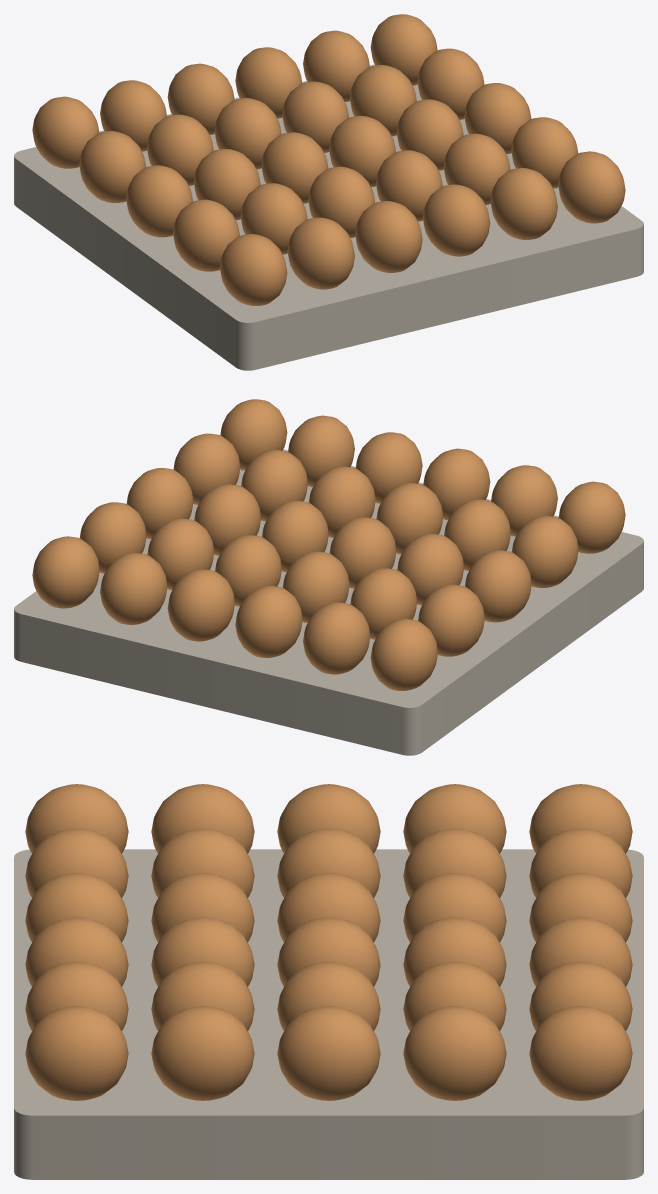
The model's file is item-egg_30.glb.
The picture shows the model from 3 angles, top to bottom: view 1: azimuth 30°, elevation 25°; view 2: azimuth 150°, elevation 25°; view 3: azimuth 270°, elevation 25°; orthographic projection. The views are drawn at different scales.
Visible parts, largest first — view 1: body, egg.015, egg.025, egg.005, egg.010, egg.020, egg, egg.004, egg.001, egg.002, egg.003, egg.012 (+19 smaller); view 2: body, egg.019, egg.029, egg.009, egg.014, egg.024, egg.004, egg, egg.002, egg.003, egg.001, egg.012 (+19 smaller); view 3: body, egg.025, egg.026, egg.027, egg.028, egg.029, egg.015, egg.016, egg.017, egg.018, egg.019, egg.005 (+19 smaller).
Boxes of the visible parts, x1=… form: body: x1=14, y1=64, x2=643, y2=370; egg.015: x1=423, y1=184, x2=490, y2=256; egg.025: x1=558, y1=151, x2=625, y2=223; egg.005: x1=287, y1=217, x2=354, y2=289; egg.010: x1=355, y1=201, x2=422, y2=272; egg.020: x1=490, y1=168, x2=557, y2=239; egg: x1=220, y1=234, x2=287, y2=305; egg.004: x1=32, y1=96, x2=99, y2=168; egg.001: x1=173, y1=199, x2=239, y2=271; egg.002: x1=126, y1=165, x2=192, y2=237; egg.003: x1=79, y1=131, x2=146, y2=202; egg.012: x1=261, y1=132, x2=328, y2=203; body: x1=14, y1=449, x2=643, y2=755; egg.019: x1=167, y1=569, x2=234, y2=641; egg.029: x1=32, y1=536, x2=99, y2=608; egg.009: x1=303, y1=602, x2=370, y2=674; egg.014: x1=235, y1=586, x2=302, y2=657; egg.024: x1=100, y1=553, x2=167, y2=624; egg.004: x1=370, y1=619, x2=437, y2=690; egg: x1=558, y1=481, x2=625, y2=553; egg.002: x1=465, y1=550, x2=531, y2=622; egg.003: x1=418, y1=584, x2=484, y2=656; egg.001: x1=511, y1=516, x2=578, y2=587; egg.012: x1=329, y1=517, x2=396, y2=588; body: x1=14, y1=849, x2=643, y2=1179; egg.025: x1=25, y1=1006, x2=128, y2=1100; egg.026: x1=151, y1=1006, x2=254, y2=1100; egg.027: x1=277, y1=1006, x2=380, y2=1100; egg.028: x1=403, y1=1006, x2=506, y2=1100; egg.029: x1=529, y1=1006, x2=632, y2=1100; egg.015: x1=25, y1=917, x2=128, y2=986; egg.016: x1=151, y1=917, x2=254, y2=986; egg.017: x1=277, y1=917, x2=380, y2=986; egg.018: x1=403, y1=917, x2=506, y2=986; egg.019: x1=529, y1=917, x2=632, y2=986; egg.005: x1=25, y1=828, x2=128, y2=897.
Size of the model in its own units: 0.3 by 0.0779 by 0.3.
